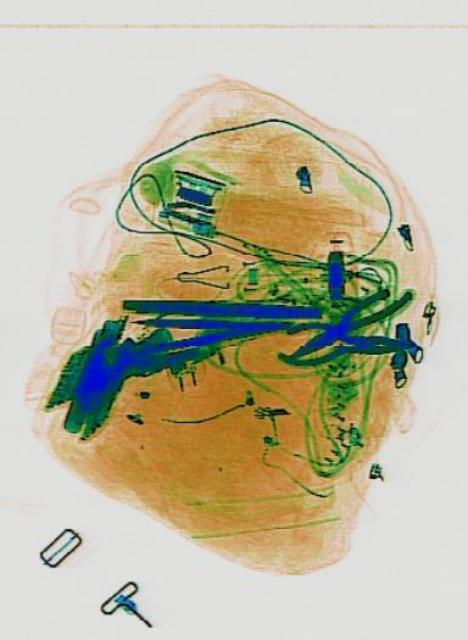Pliers: (284, 270, 411, 370), (273, 320, 408, 364)
